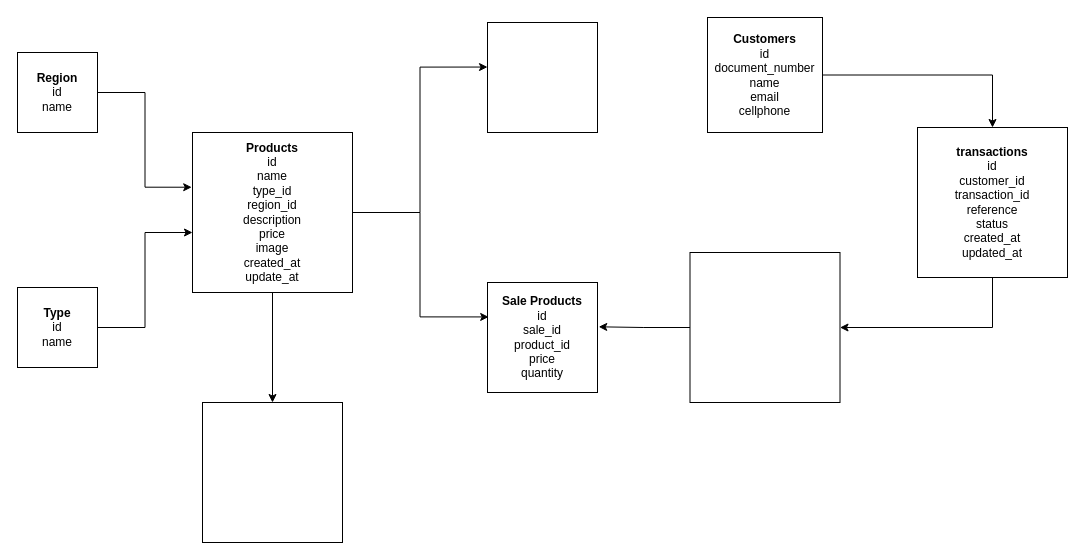
Some shapes in this 1085 by 560 pixel diagram are drawn without their labels. The shapes that lost their labels are listed below. From the top down, each one's box as (x1, y1, x2, y2) in pixels, then its label:
(486, 22, 598, 132): Entries id product_id quantity created_at update_at
(689, 252, 840, 402): Sales id transaction_id address total_amount status created_at updated_at
(202, 402, 342, 542): Inventories id product_id quantity created_at updated_at
